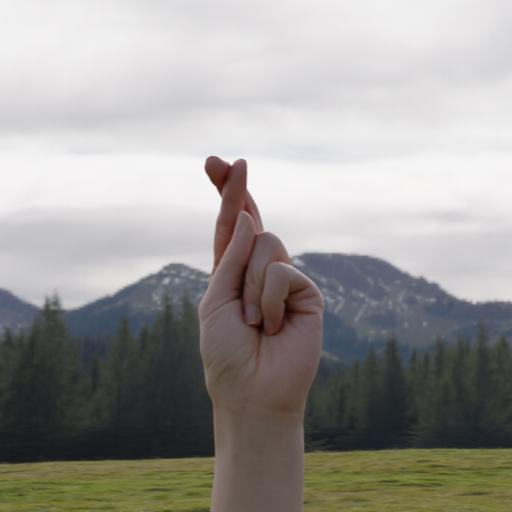R: (188, 132, 344, 412)
